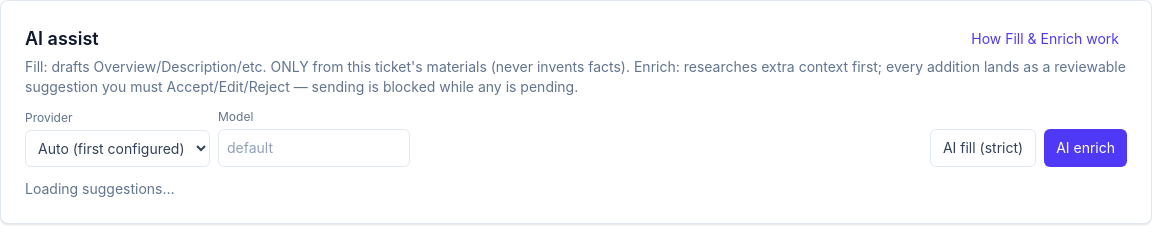
Test: TASK-UIC2: AI loading states, picker, provenance, help › shows a disabled Filling… state while ai/fill is in flight
The width and height of the screenshot is (1152, 242).
// AI fill (strict) is clicked
What coordinates should you click on to do the following:
click the button "AI fill (strict)"
I would click on:
 (983, 148)
Its box is [930,129,1036,167].
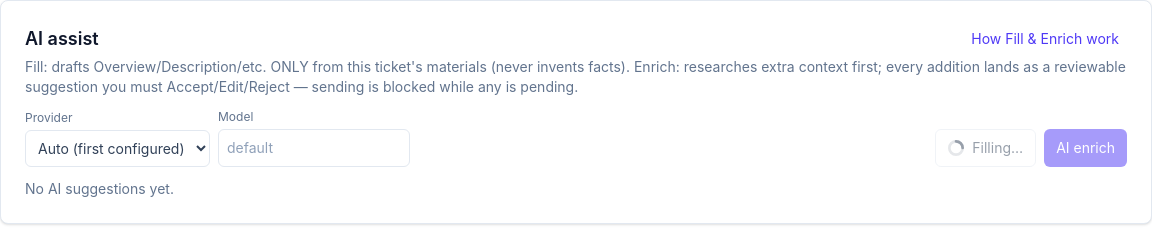
Result: the button "Filling…" is disabled at [935,129,1036,167]
Result: the button "AI enrich" is disabled at [1044,129,1127,167]
